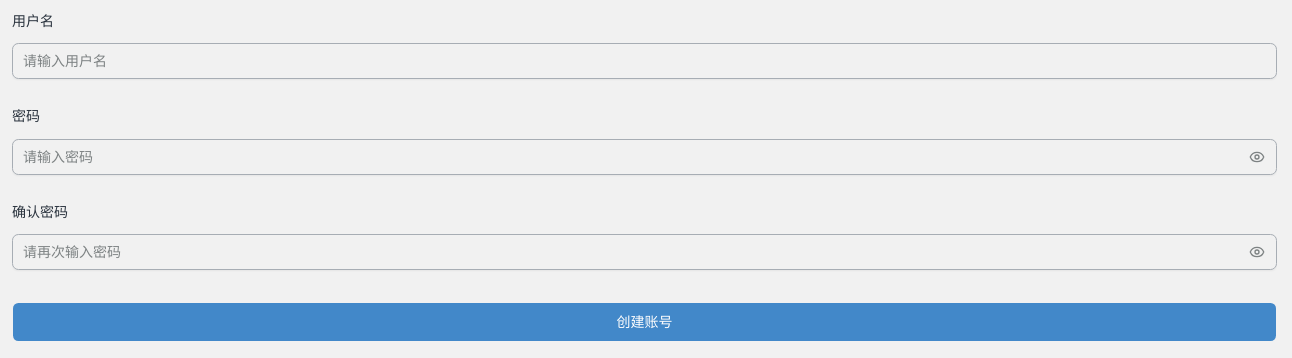
Test: RegisterForm › rejects a username shorter than four characters
The width and height of the screenshot is (1292, 358).
Type "abc" into the field labelled "用户名" at (644, 61), box [12,43,1277,79]
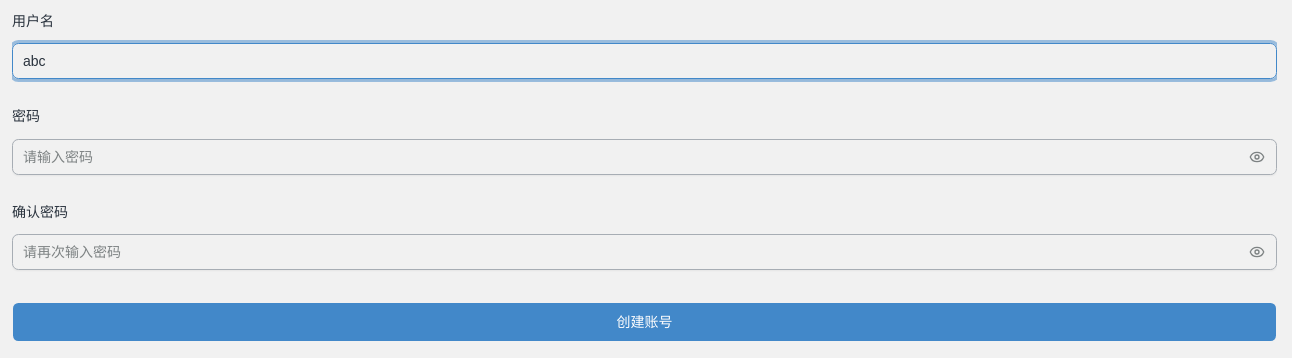
Type "Correct123!" into the password field labelled "密码" at (644, 156), box [12,138,1277,174]
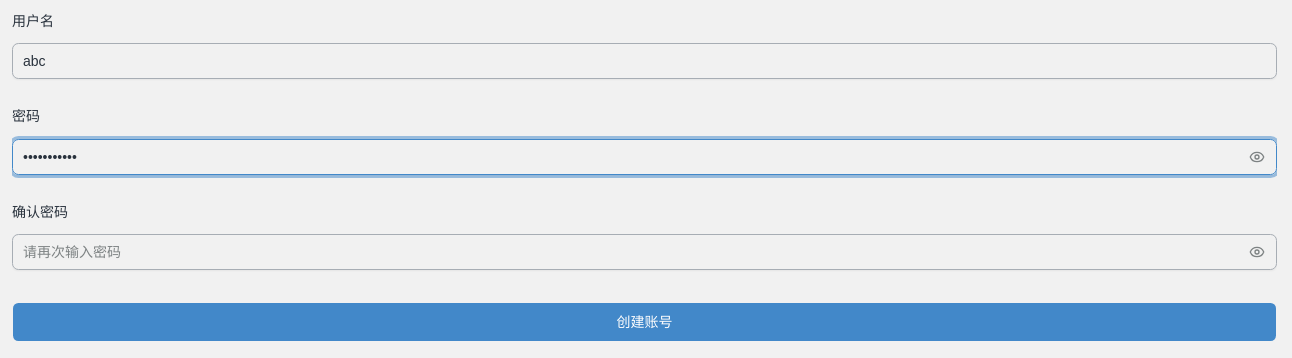
Type "Correct123!" into the password field labelled "确认密码" at (644, 252), box [12,234,1277,270]
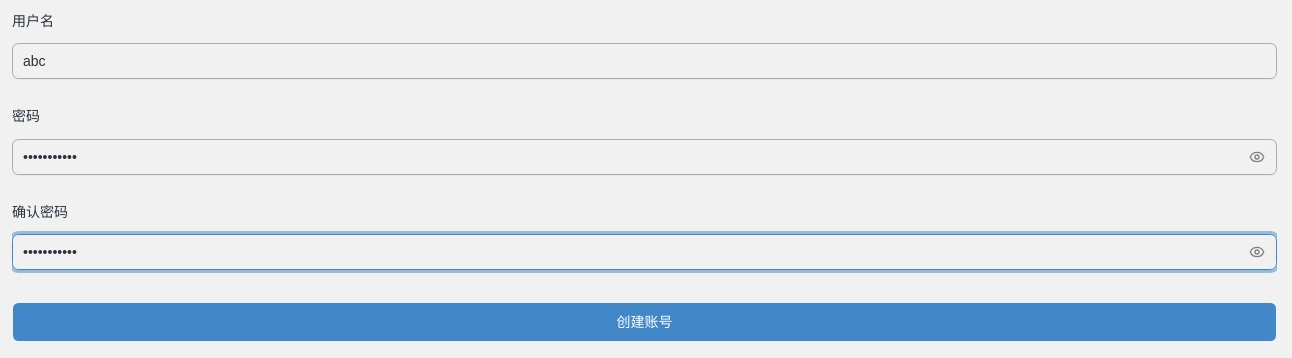
Click the button "创建账号" at (644, 322), box [12,302,1277,342]
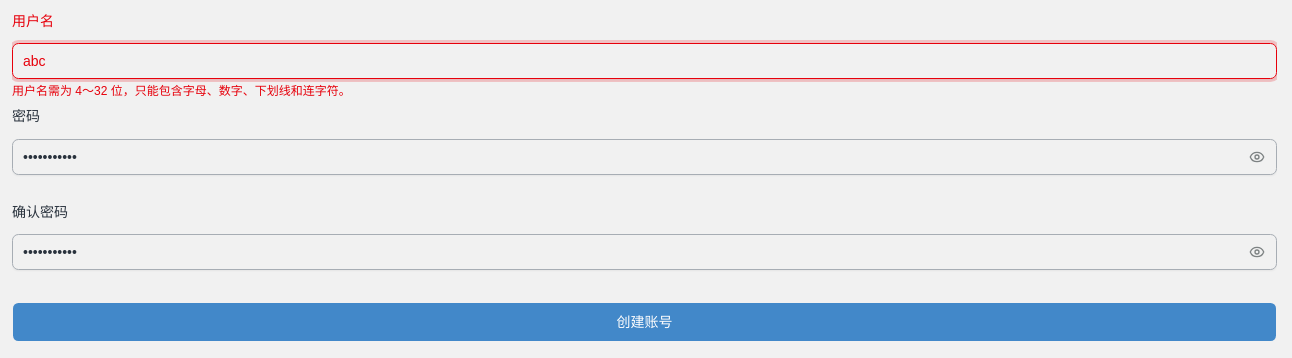
Expected: the text "用户名需为 4～32 位，只能包含字母、数字、下划线和连字符。" is shown, [12,84,351,98]
